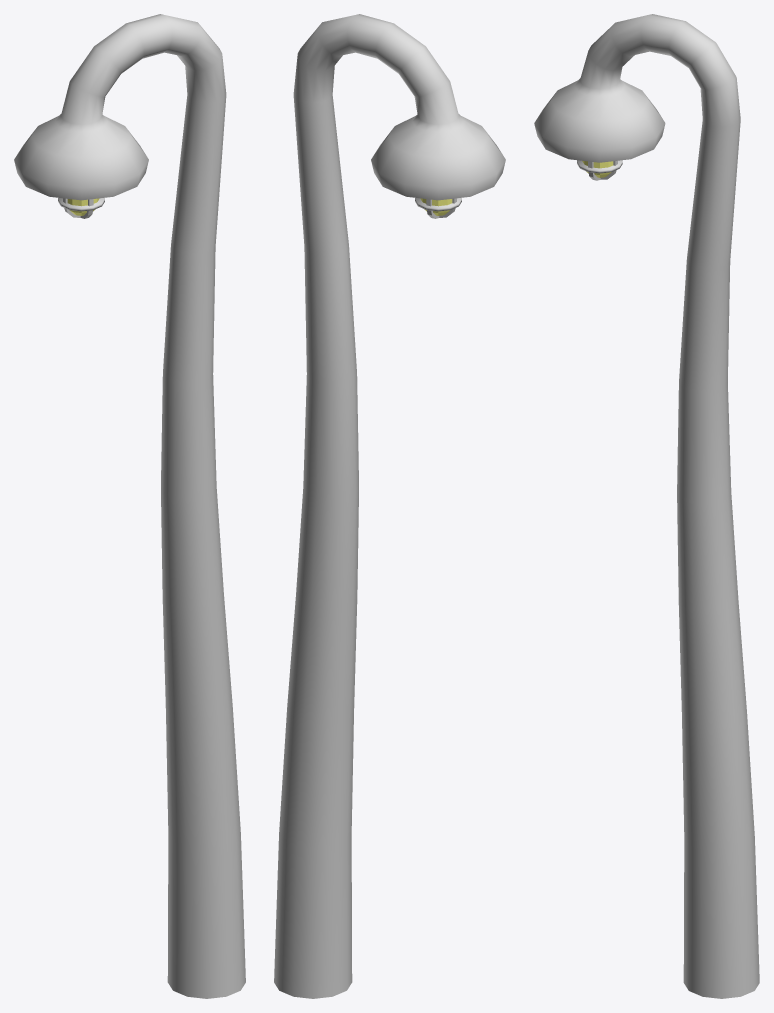
File: WWLampPost.fbx
3 renders of one model, left to right at view 1: azimuth 30°, elevation 25°; view 2: azimuth 150°, elevation 25°; view 3: azimuth 330°, elevation 25°, orthographic. The views are drawn at different scales.
Parts seen in each view (by area): view 1: WWLampPost; view 2: WWLampPost; view 3: WWLampPost.
Boxes of the visible parts, x1,y1,x2,y2 form: WWLampPost: (14, 14, 245, 998); WWLampPost: (274, 14, 505, 998); WWLampPost: (534, 14, 759, 998).
Bounding box in the file's own units: 24 × 12.89 × 103.
